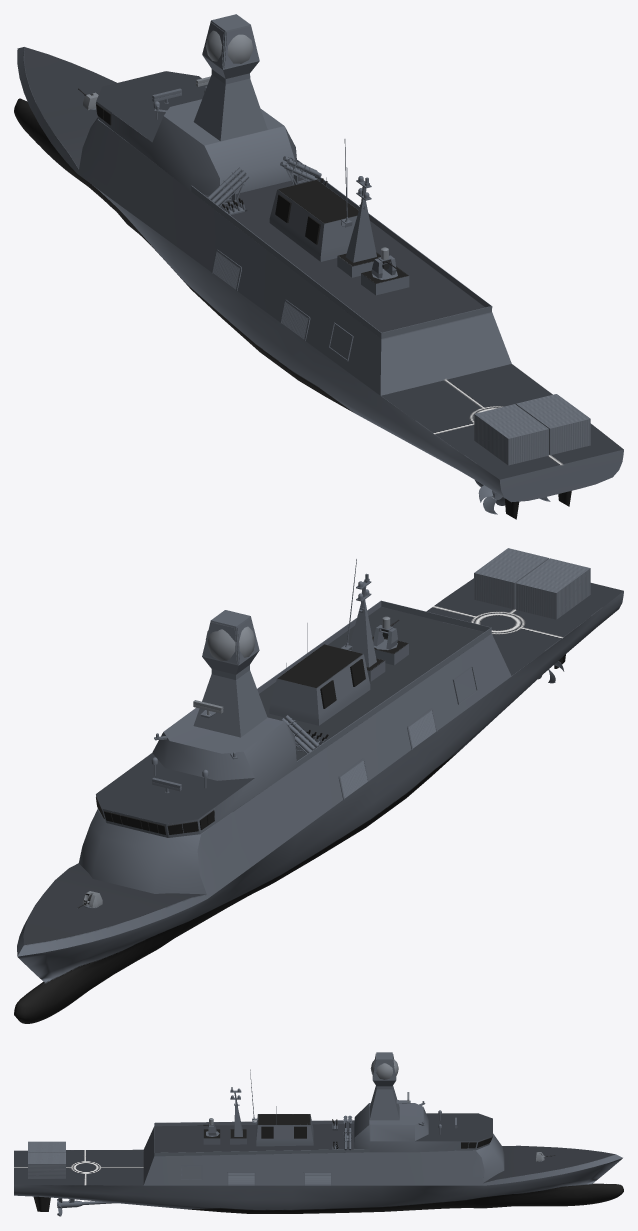
Rendered from Fragata.glb.
3 views of the same model, one above another, from view 1: azimuth 30°, elevation 25°; view 2: azimuth 150°, elevation 25°; view 3: azimuth 270°, elevation 25° (orthographic). The views are drawn at different scales.
Visible parts, largest first — view 1: FragataMixta, Radar_Alt3_MFSTAR ELM, Contenedor, AntiBuques; view 2: FragataMixta, Radar_Alt3_MFSTAR ELM, Contenedor, SDP_Alt2_Vulcan Phalanx; view 3: FragataMixta, Radar_Alt3_MFSTAR ELM, Contenedor, AntiBuques.
Part boxes in pixels (x1,y1,x2,y2): FragataMixta: [14, 47, 623, 519]; Radar_Alt3_MFSTAR ELM: [193, 14, 267, 141]; Contenedor: [474, 394, 590, 465]; AntiBuques: [207, 156, 321, 206]; FragataMixta: [14, 559, 623, 1023]; Radar_Alt3_MFSTAR ELM: [193, 610, 267, 737]; Contenedor: [474, 548, 590, 619]; SDP_Alt2_Vulcan Phalanx: [373, 616, 399, 650]; FragataMixta: [14, 1069, 623, 1216]; Radar_Alt3_MFSTAR ELM: [369, 1052, 410, 1120]; Contenedor: [28, 1141, 65, 1178]; AntiBuques: [343, 1115, 352, 1150].
Size of the model in its own units: 0.2367 by 0.4628 by 1.68.
Materials: 2 (2 with a texture image).
